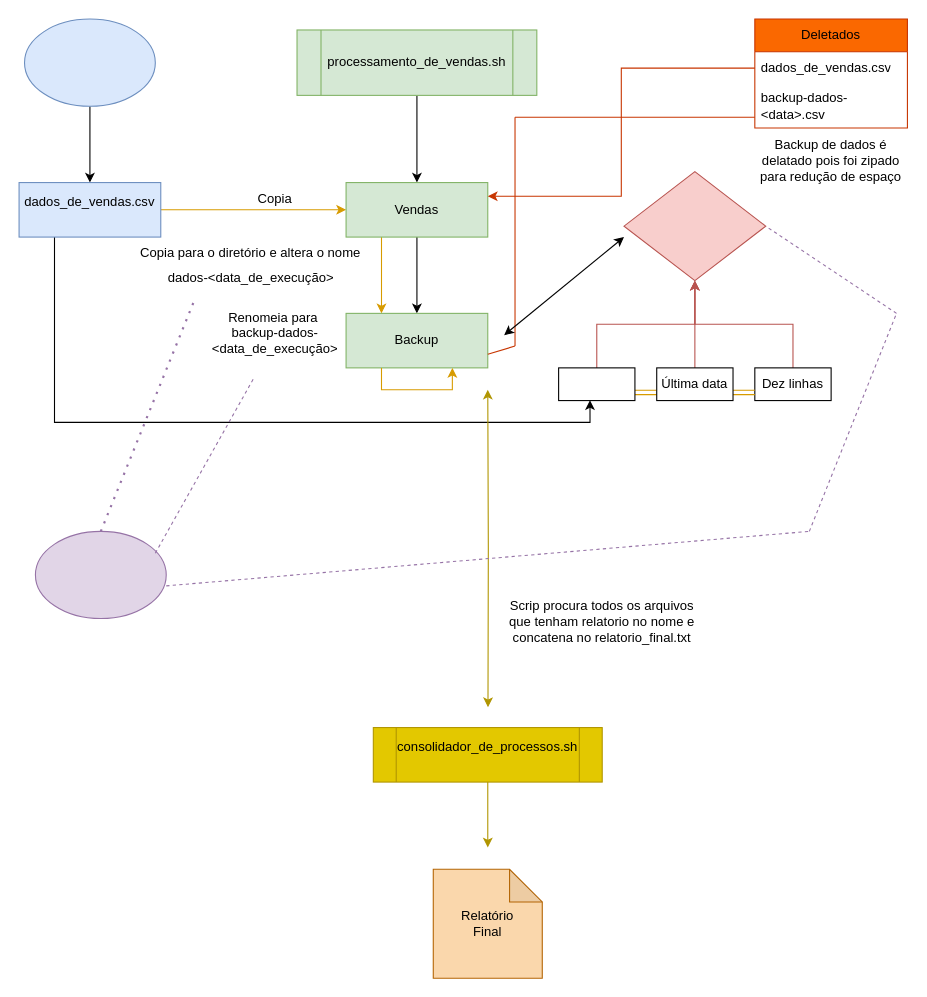
Image size: 927x997. Some labels were removed from this diagram. The centre of each missing label's shape, as x and y in pixels:
"Data do sistema" goes at point 100,574.
"Ecommerce" goes at point 89,62.
"Primeira data" goes at point 596,384.
"Relatório" goes at point 694,226.
